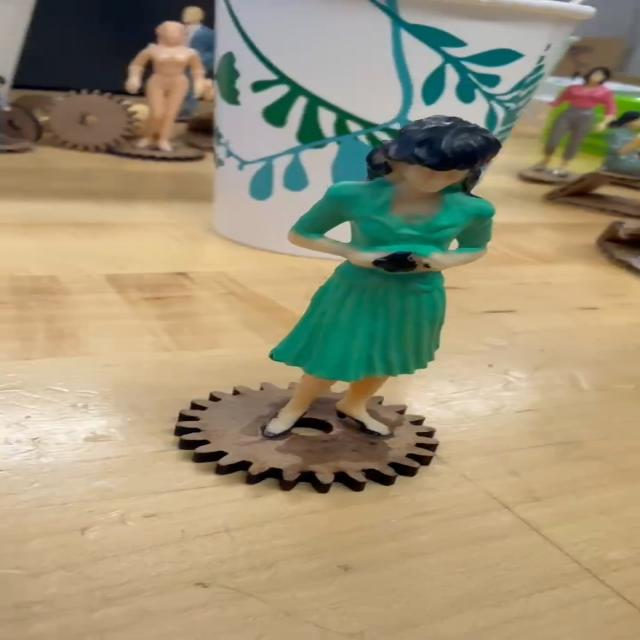Authorized: (256, 105, 532, 481)
